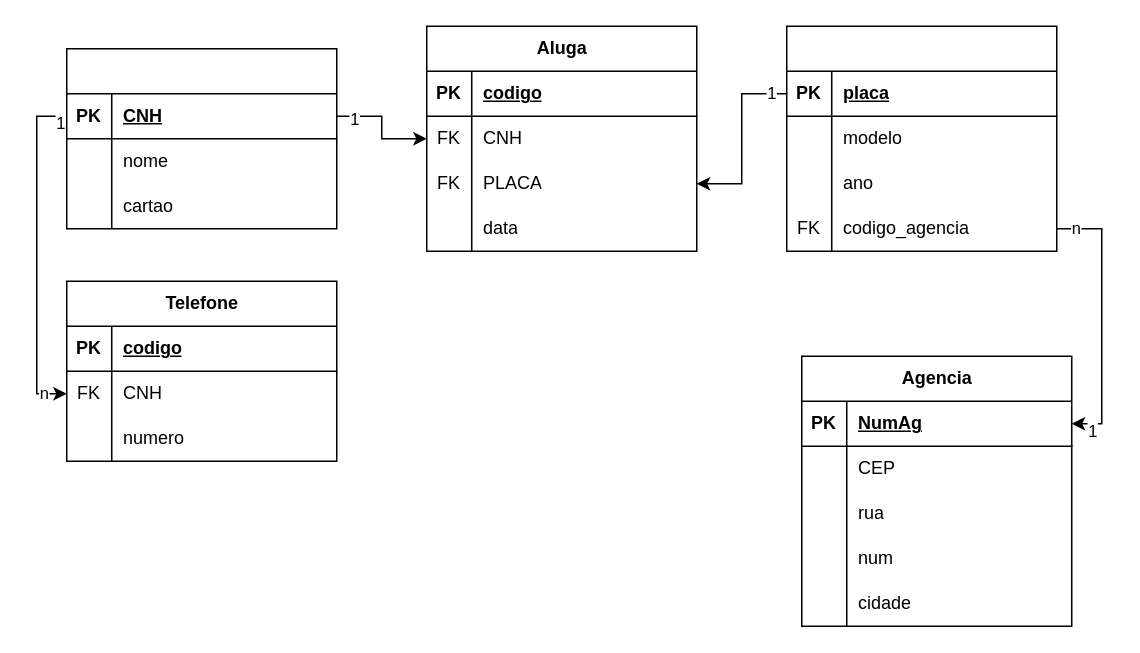
Some shapes in this 1140 by 653 pixel diagram are drawn without their labels. Each missing label, with the box of its shape:
Carro: (785, 25, 1057, 251)
Cliente: (65, 47, 337, 229)
